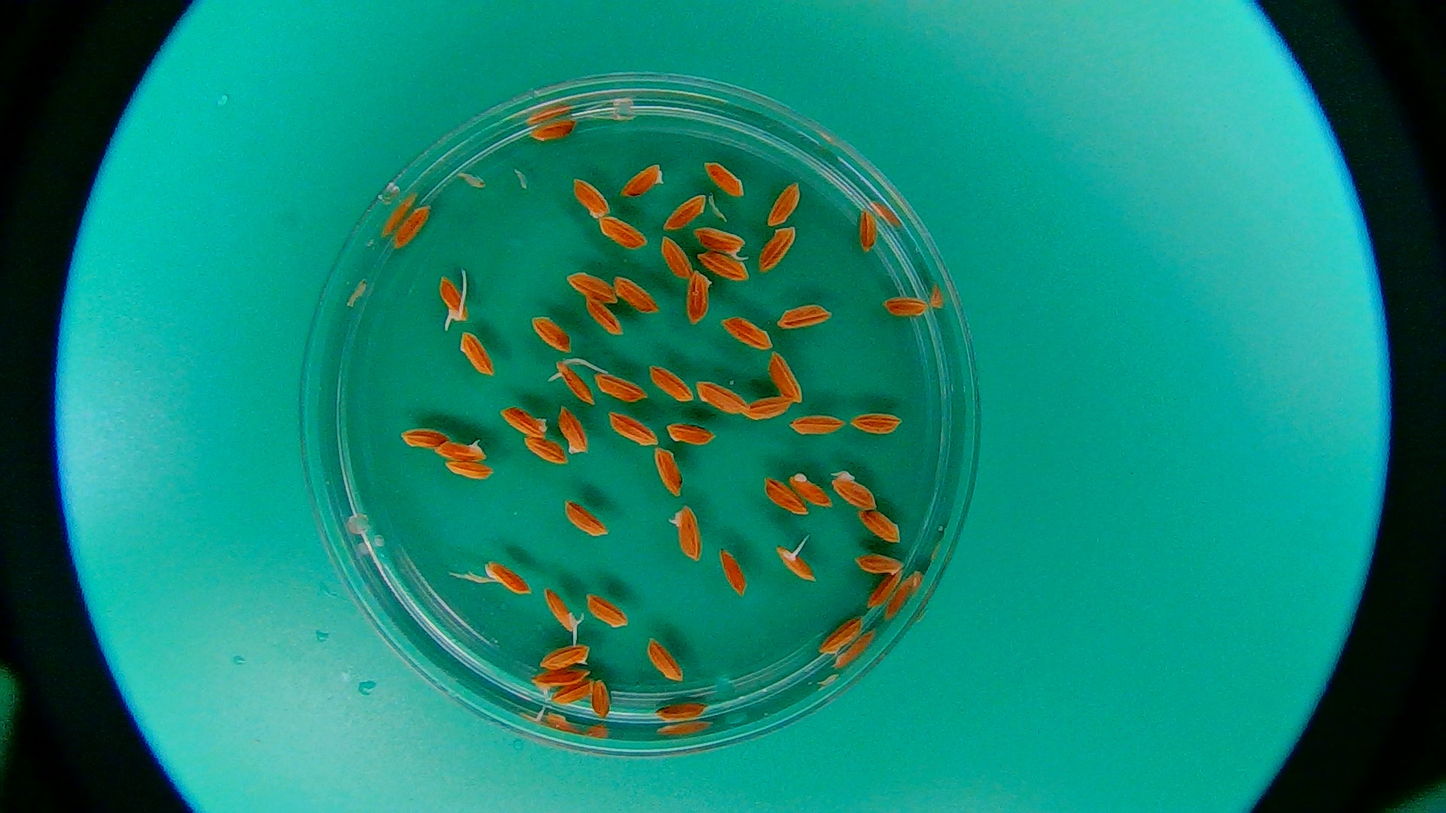no: (719, 312, 774, 352), (764, 352, 805, 404), (694, 378, 749, 416), (646, 361, 693, 405), (606, 410, 660, 448), (818, 615, 866, 656), (563, 497, 609, 539), (645, 637, 686, 684), (555, 402, 591, 455), (392, 206, 434, 251), (587, 589, 632, 631), (758, 227, 798, 274), (566, 269, 618, 305), (615, 273, 659, 315), (831, 472, 877, 512), (581, 296, 624, 338), (572, 175, 612, 220), (597, 214, 648, 249), (618, 161, 669, 196), (500, 403, 548, 440), (775, 304, 835, 333), (857, 507, 902, 545), (485, 561, 532, 597), (767, 179, 802, 227), (459, 331, 494, 379), (529, 315, 572, 354), (696, 251, 749, 282), (663, 194, 706, 232), (594, 373, 645, 405), (654, 446, 685, 498), (660, 233, 691, 283), (718, 546, 749, 596), (522, 435, 567, 469), (790, 469, 830, 507), (758, 485, 807, 516), (703, 161, 744, 198), (849, 410, 905, 437), (666, 419, 716, 449), (687, 270, 713, 326), (536, 644, 591, 670), (742, 394, 792, 422), (867, 568, 902, 608), (789, 413, 845, 437), (880, 295, 930, 321), (529, 117, 575, 145), (853, 553, 905, 576), (398, 429, 450, 450), (552, 680, 593, 706), (591, 676, 613, 723), (857, 206, 879, 253), (444, 459, 494, 479), (654, 702, 707, 720)
yes: (692, 223, 752, 260), (436, 269, 468, 333), (552, 359, 594, 405), (671, 504, 704, 560), (544, 586, 582, 632), (778, 545, 820, 585), (434, 437, 488, 463), (530, 669, 591, 692)
